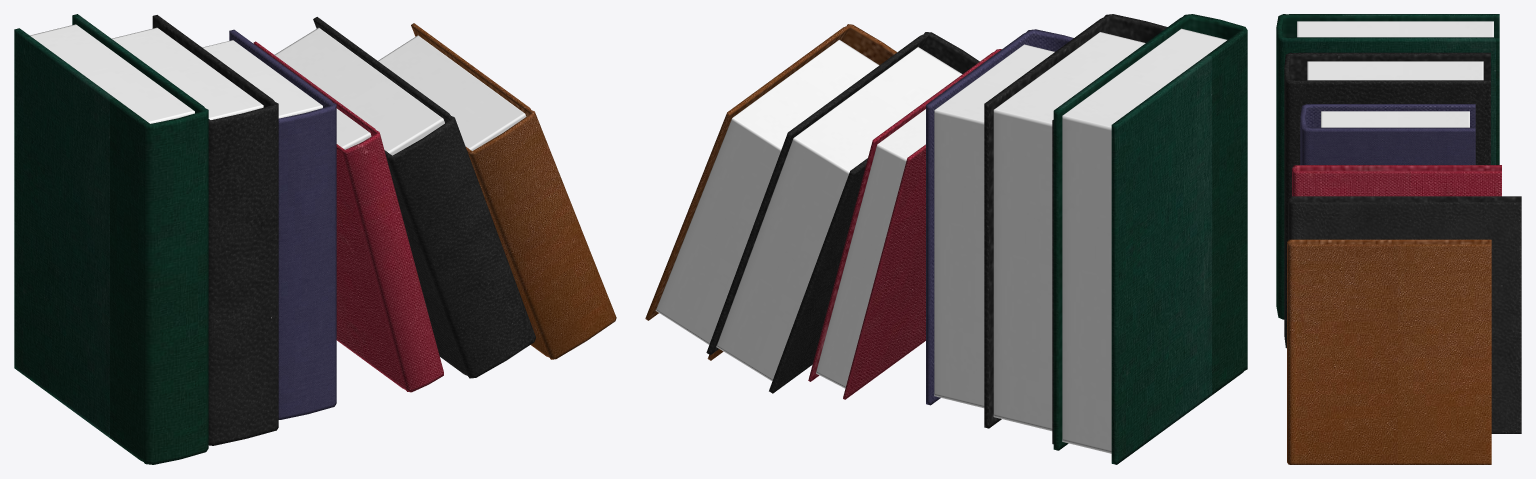
Rendered from Books_003.fbx.
3 renders of one model, left to right at view 1: azimuth 30°, elevation 25°; view 2: azimuth 150°, elevation 25°; view 3: azimuth 270°, elevation 25°, orthographic. The views are drawn at different scales.
Parts seen in each view (by area): view 1: book.045, book.039, book.046, book.038, book.047, book.040; view 2: book.045, book.039, book.046, book.038, book.047, book.040; view 3: book.038, book.039, book.046, book.045, book.047, book.040.
Boxes of the visible parts, bbox=[...] form: book.045: bbox=[14, 14, 208, 464]; book.039: bbox=[274, 17, 535, 378]; book.046: bbox=[112, 15, 278, 445]; book.038: bbox=[378, 23, 616, 359]; book.047: bbox=[202, 29, 336, 419]; book.040: bbox=[253, 41, 443, 392]; book.045: bbox=[1053, 14, 1247, 464]; book.039: bbox=[706, 32, 979, 393]; book.046: bbox=[984, 14, 1167, 444]; book.038: bbox=[645, 24, 896, 360]; book.047: bbox=[926, 29, 1073, 408]; book.040: bbox=[808, 49, 1001, 399]; book.038: bbox=[1287, 239, 1491, 464]; book.039: bbox=[1288, 196, 1521, 433]; book.046: bbox=[1284, 52, 1490, 348]; book.045: bbox=[1276, 14, 1499, 319]; book.047: bbox=[1300, 104, 1475, 165]; book.040: bbox=[1292, 165, 1501, 196].
Size of the model in its own units: 54.65 by 37.12 by 29.41.
